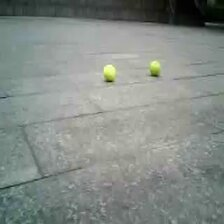tennis: (102, 65, 116, 80), (148, 61, 160, 75)
